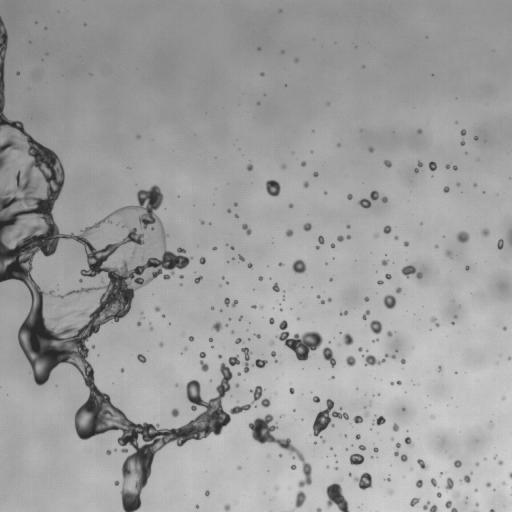droplet: (276, 320, 321, 360), (312, 399, 348, 436), (326, 483, 349, 511), (401, 264, 422, 278), (354, 472, 371, 489), (266, 180, 280, 196), (292, 259, 306, 273), (383, 294, 396, 309), (349, 453, 364, 465), (370, 320, 382, 334), (456, 231, 469, 243), (423, 501, 437, 511), (252, 359, 267, 368), (343, 333, 353, 345), (224, 297, 237, 306), (372, 416, 385, 425), (417, 459, 427, 470), (445, 477, 453, 490), (345, 356, 355, 366), (242, 224, 251, 235), (212, 321, 221, 331), (428, 162, 437, 171), (261, 398, 270, 407), (410, 497, 419, 506), (353, 415, 363, 423), (137, 354, 146, 362), (171, 408, 179, 417), (404, 437, 412, 446), (303, 223, 311, 231), (383, 225, 391, 233), (272, 283, 279, 292), (430, 478, 437, 487), (497, 239, 503, 249), (194, 276, 202, 283), (392, 423, 399, 431), (318, 235, 324, 244), (384, 160, 391, 167), (482, 229, 489, 236), (400, 454, 407, 461), (454, 460, 461, 467), (463, 475, 470, 482), (246, 164, 252, 171), (286, 229, 292, 236), (337, 235, 344, 241), (199, 257, 205, 264), (381, 259, 388, 265), (416, 480, 422, 487), (224, 504, 230, 511), (235, 338, 243, 343), (460, 129, 466, 135), (443, 186, 449, 192), (445, 250, 451, 256), (385, 273, 391, 279), (313, 396, 319, 402), (269, 317, 274, 324), (289, 387, 294, 394), (358, 445, 365, 450), (340, 311, 348, 315), (303, 181, 308, 187), (239, 255, 244, 261), (396, 287, 401, 293), (254, 333, 260, 338), (188, 336, 194, 341), (373, 446, 378, 452), (460, 140, 465, 145), (301, 161, 306, 166), (347, 194, 352, 199), (382, 197, 387, 202), (403, 241, 408, 246), (155, 306, 160, 311), (387, 331, 392, 336), (400, 359, 405, 364), (396, 380, 401, 385), (355, 434, 360, 439), (498, 460, 503, 465), (291, 464, 296, 469), (486, 482, 491, 487), (436, 492, 441, 497), (418, 161, 422, 167), (377, 280, 383, 284), (271, 351, 275, 357), (205, 490, 209, 496), (369, 147, 373, 152), (313, 172, 318, 176), (248, 263, 252, 268), (278, 262, 283, 266), (465, 265, 469, 270), (364, 297, 369, 301), (270, 340, 274, 345), (438, 366, 442, 371), (106, 450, 111, 454), (316, 507, 321, 511), (417, 129, 421, 133), (281, 164, 285, 168), (414, 168, 418, 172), (456, 182, 460, 186), (346, 235, 350, 239), (330, 243, 334, 247), (213, 246, 217, 250), (258, 276, 262, 280), (502, 326, 506, 330), (159, 342, 163, 346), (358, 347, 362, 351), (114, 481, 118, 485), (321, 437, 324, 442), (474, 136, 477, 140), (289, 204, 293, 207), (394, 236, 398, 239), (315, 245, 319, 248), (327, 298, 331, 301), (252, 305, 256, 308), (239, 316, 242, 320), (137, 322, 141, 325), (391, 355, 395, 358), (508, 356, 511, 360), (502, 396, 505, 400), (489, 509, 494, 511), (261, 72, 264, 75), (227, 209, 230, 212), (200, 220, 203, 223), (180, 275, 183, 278), (282, 296, 285, 299), (321, 300, 324, 303), (454, 315, 457, 318), (209, 338, 212, 341), (374, 338, 377, 341), (218, 355, 221, 358), (121, 369, 124, 372), (489, 422, 492, 425), (387, 478, 390, 481), (195, 505, 198, 508), (295, 58, 297, 62), (235, 384, 239, 386), (16, 72, 19, 74), (137, 135, 139, 138), (324, 191, 326, 194), (234, 203, 237, 205), (347, 225, 349, 228), (375, 234, 377, 237), (231, 246, 233, 249), (79, 279, 82, 281), (329, 278, 332, 280), (226, 281, 228, 284), (317, 295, 319, 298), (150, 326, 152, 329), (184, 347, 187, 349), (274, 360, 277, 362), (391, 382, 393, 385), (431, 415, 433, 418), (279, 454, 282, 456), (494, 455, 496, 458), (238, 466, 240, 469), (335, 467, 337, 470), (348, 473, 351, 475), (502, 482, 505, 484), (475, 503, 478, 505), (257, 102, 259, 104), (337, 144, 339, 146), (474, 184, 476, 186), (235, 215, 237, 217), (435, 245, 437, 247), (260, 305, 262, 307), (211, 307, 213, 309), (226, 324, 228, 326), (231, 331, 233, 333), (92, 345, 94, 347), (238, 372, 240, 374), (331, 376, 333, 378), (175, 384, 177, 386), (366, 413, 368, 415), (391, 438, 393, 440), (330, 447, 332, 449), (476, 463, 478, 465), (276, 487, 278, 489), (390, 491, 392, 493), (455, 494, 457, 496)
ligament: (0, 17, 263, 511), (248, 414, 312, 511), (358, 190, 378, 208), (364, 354, 389, 365), (322, 347, 335, 367), (199, 352, 209, 371), (445, 500, 457, 511), (394, 442, 401, 456), (430, 317, 439, 326), (445, 164, 457, 170), (362, 310, 370, 319), (508, 229, 511, 245), (53, 316, 62, 321), (17, 231, 23, 237), (509, 472, 511, 478)
